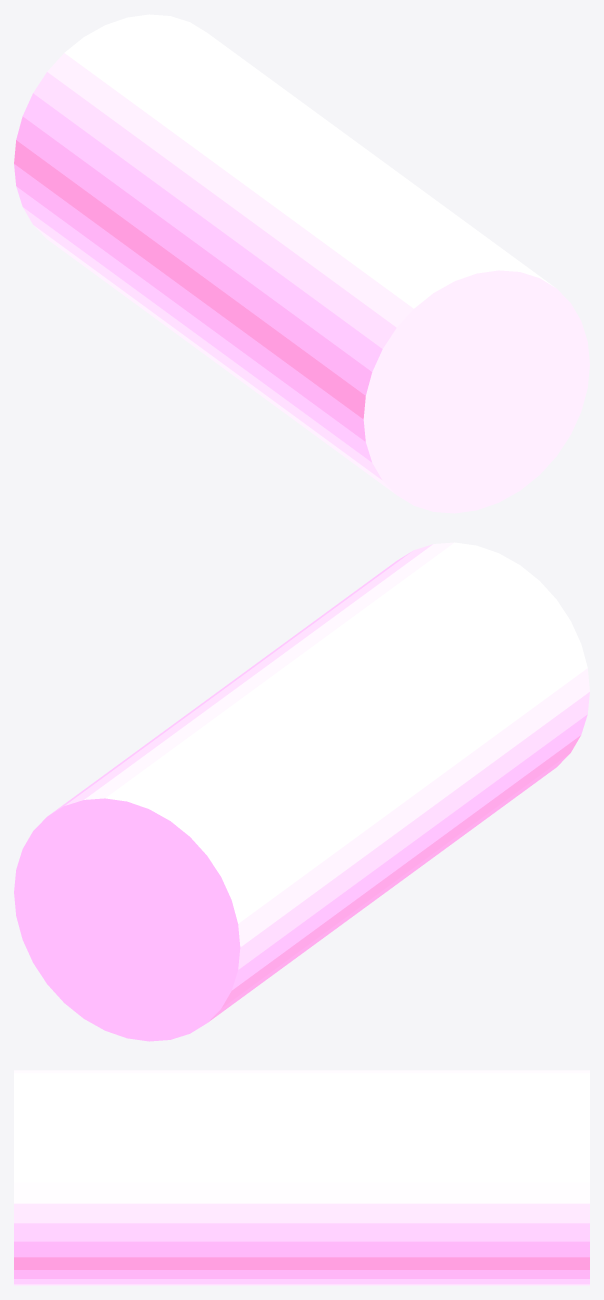
The model's file is bullet.glb.
3 renders of one model, top to bottom at view 1: azimuth 30°, elevation 25°; view 2: azimuth 150°, elevation 25°; view 3: azimuth 270°, elevation 25°, orthographic. The views are drawn at different scales.
Parts seen in each view (by area): view 1: Cylinder; view 2: Cylinder; view 3: Cylinder.
Boxes of the visible parts, x1,y1,x2,y2 form: Cylinder: (14, 14, 589, 513); Cylinder: (14, 542, 589, 1041); Cylinder: (14, 1070, 589, 1285).
Bounding box in the file's own units: 0.7844 × 0.7844 × 2.1.
